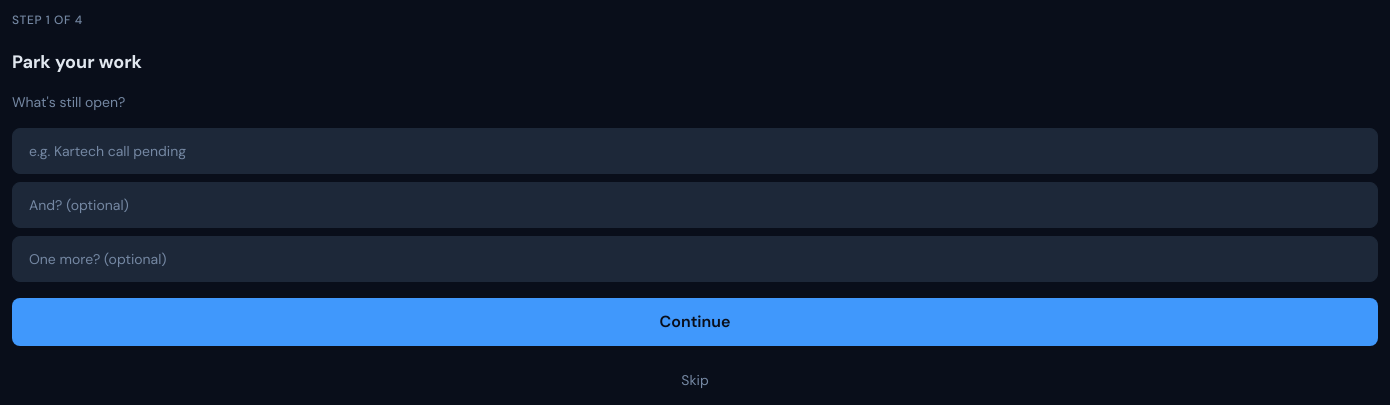
Scenario: TransitionMode › step 2: shows a single text input for promises note
What coordinates should you click on to do the following:
click the button "Continue"
I would click on:
 (695, 322)
Its box is [12, 298, 1378, 346].
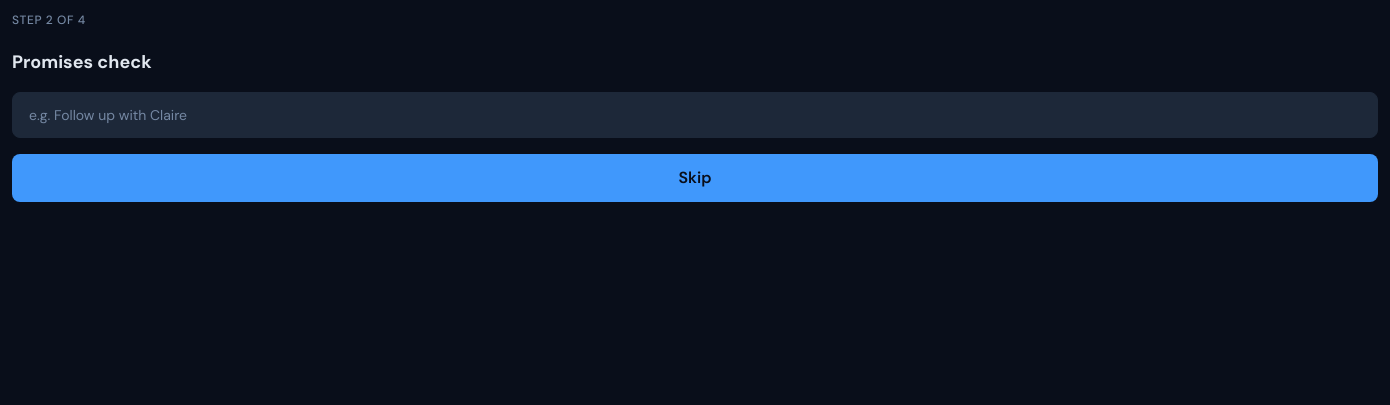
Expected: the text "Step 2 of 4" is shown, [12, 12, 86, 28]
Expected: the field with placeholder "e.g. Follow up with Claire" is shown, [12, 92, 1378, 138]
